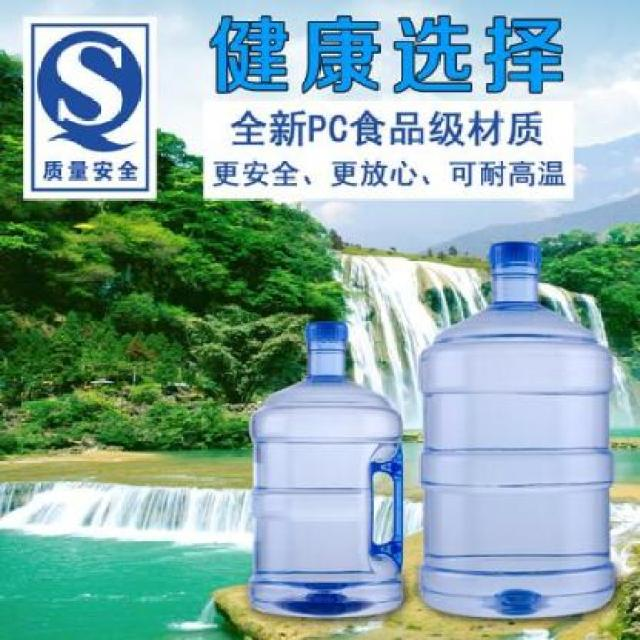coolerbottle: (417, 237, 621, 623), (248, 322, 410, 620)
